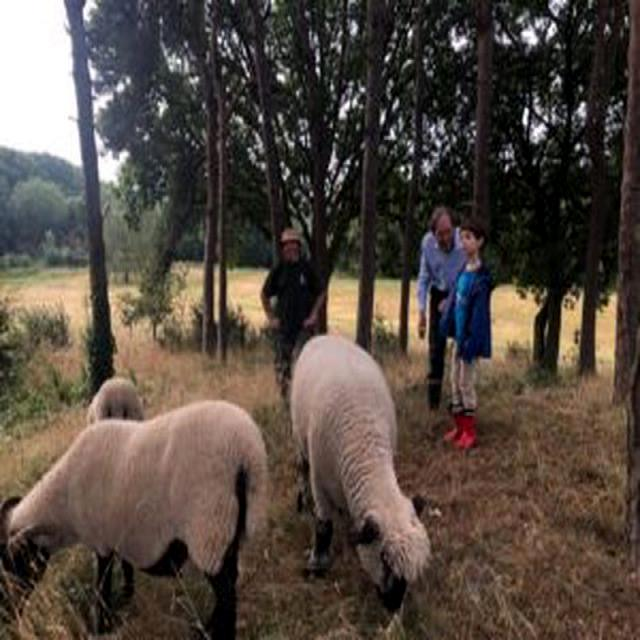sheep: (0, 403, 266, 635), (290, 335, 428, 612)
